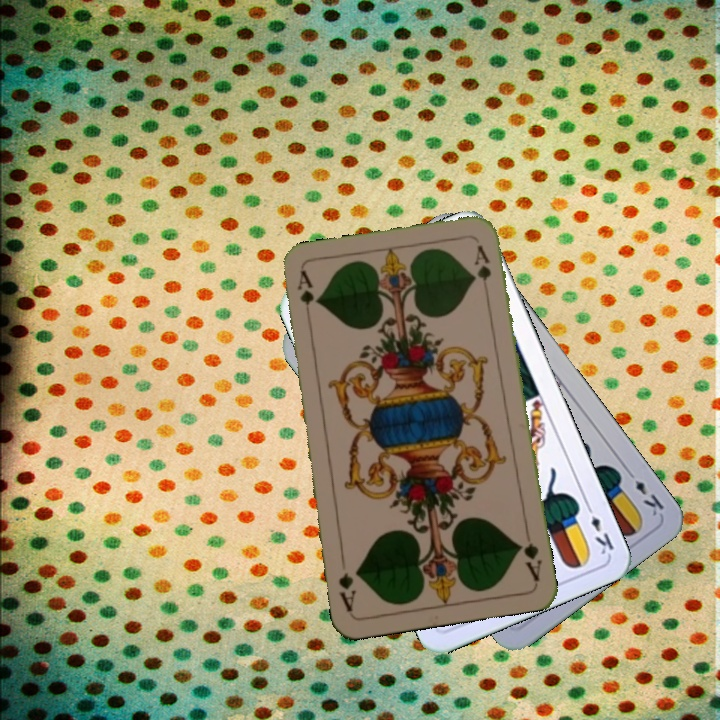EK: (622, 465, 667, 519), (581, 499, 617, 557)
GA: (515, 525, 545, 584), (293, 267, 315, 327)
